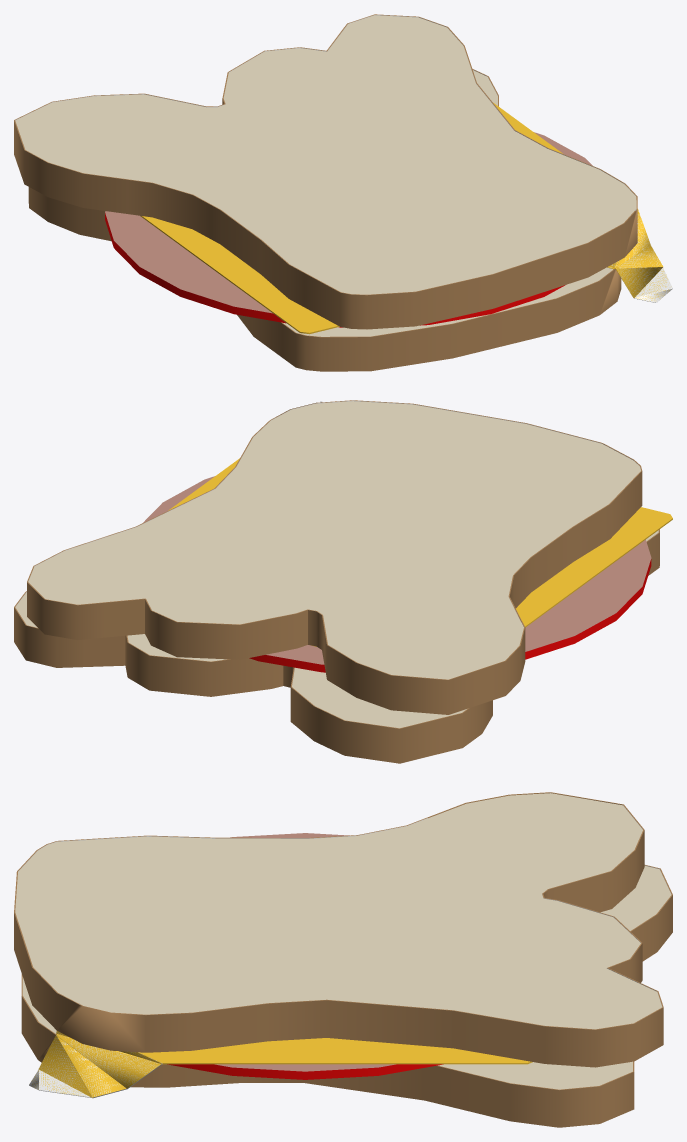
File: sandwhich.dae
3 views of the same model, one above another, from view 1: azimuth 30°, elevation 25°; view 2: azimuth 150°, elevation 25°; view 3: azimuth 270°, elevation 25° (orthographic). The views are drawn at different scales.
Parts seen in each view (by area): view 1: SketchUp (×9); view 2: SketchUp (×8); view 3: SketchUp (×9).
Boxes of the visible parts, x1=… form: SketchUp (×9): x1=14, y1=14, x2=672, y2=371; SketchUp (×8): x1=14, y1=400, x2=672, y2=763; SketchUp (×9): x1=14, y1=792, x2=672, y2=1127.
Bounding box in the file's own units: 307 × 341 × 49.21.
